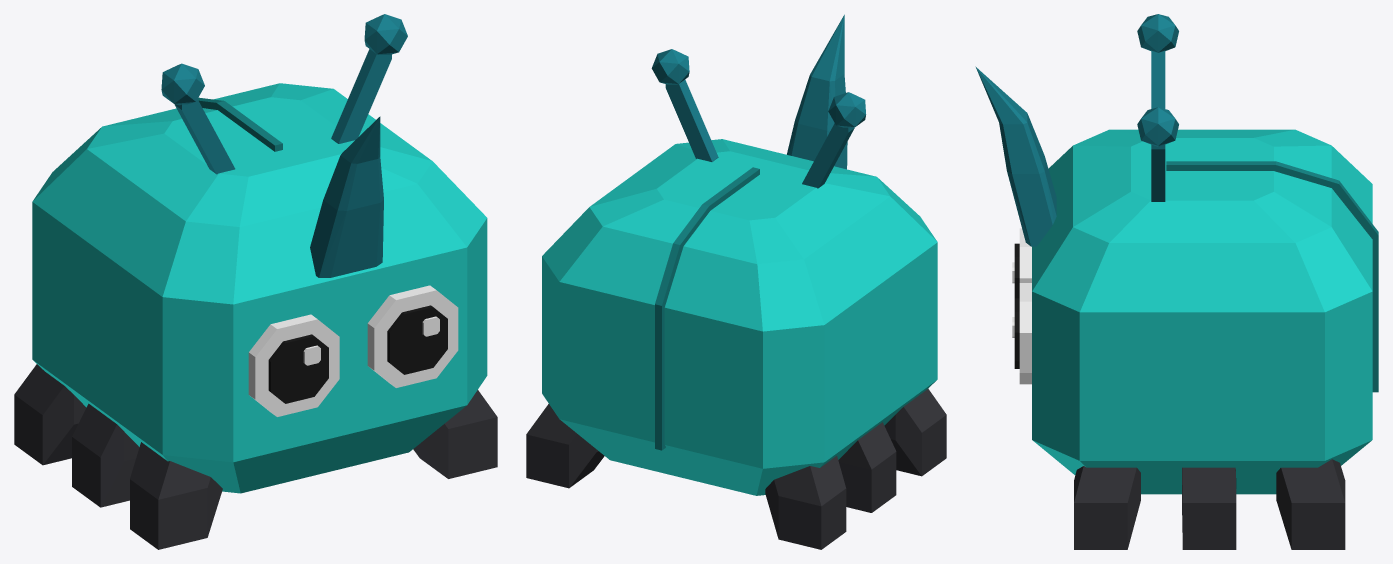
The model's file is Beetle.fbx.
3 renders of one model, left to right at view 1: azimuth 30°, elevation 25°; view 2: azimuth 150°, elevation 25°; view 3: azimuth 270°, elevation 25°, orthographic. The views are drawn at different scales.
Parts seen in each view (by area): view 1: Beetle, Beetle_Legs, Beetle_Eyes, Beetle_Horn, Beetle_Antennae, Beetle_Pupils, Beetle_Seam; view 2: Beetle, Beetle_Legs, Beetle_Antennae, Beetle_Horn, Beetle_Seam; view 3: Beetle, Beetle_Legs, Beetle_Horn, Beetle_Antennae, Beetle_Seam, Beetle_Eyes, Beetle_Pupils.
Boxes of the visible parts, <box> form: Beetle: <box>32,83,487,493</box>; Beetle_Legs: <box>14,364,497,549</box>; Beetle_Eyes: <box>248,285,458,416</box>; Beetle_Horn: <box>310,116,383,277</box>; Beetle_Antennae: <box>161,14,407,174</box>; Beetle_Pupils: <box>268,305,447,403</box>; Beetle_Seam: <box>198,97,282,151</box>; Beetle: <box>542,139,937,495</box>; Beetle_Legs: <box>526,388,946,549</box>; Beetle_Antennae: <box>651,49,866,188</box>; Beetle_Horn: <box>787,14,847,169</box>; Beetle_Seam: <box>655,167,759,450</box>; Beetle: <box>1032,129,1372,494</box>; Beetle_Legs: <box>1074,459,1345,549</box>; Beetle_Horn: <box>975,66,1056,246</box>; Beetle_Antennae: <box>1137,14,1178,201</box>; Beetle_Seam: <box>1166,161,1378,392</box>; Beetle_Eyes: <box>1012,228,1031,384</box>; Beetle_Pupils: <box>1014,243,1019,368</box>.
Bounding box in the file's own units: 2.34 × 2.88 × 2.56.
